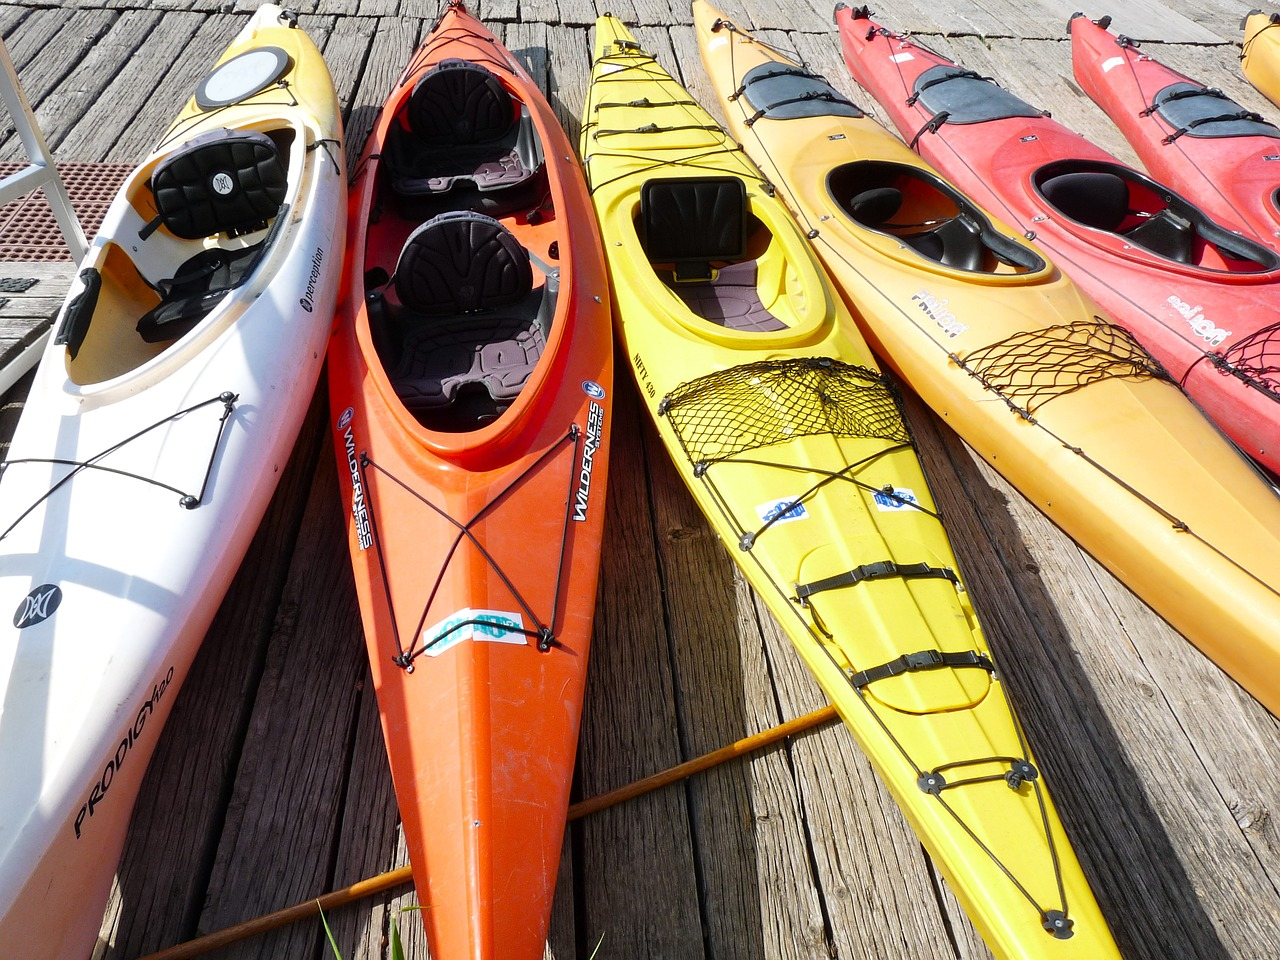kayak: (583, 10, 1148, 960), (1, 1, 322, 934), (328, 1, 621, 960)
